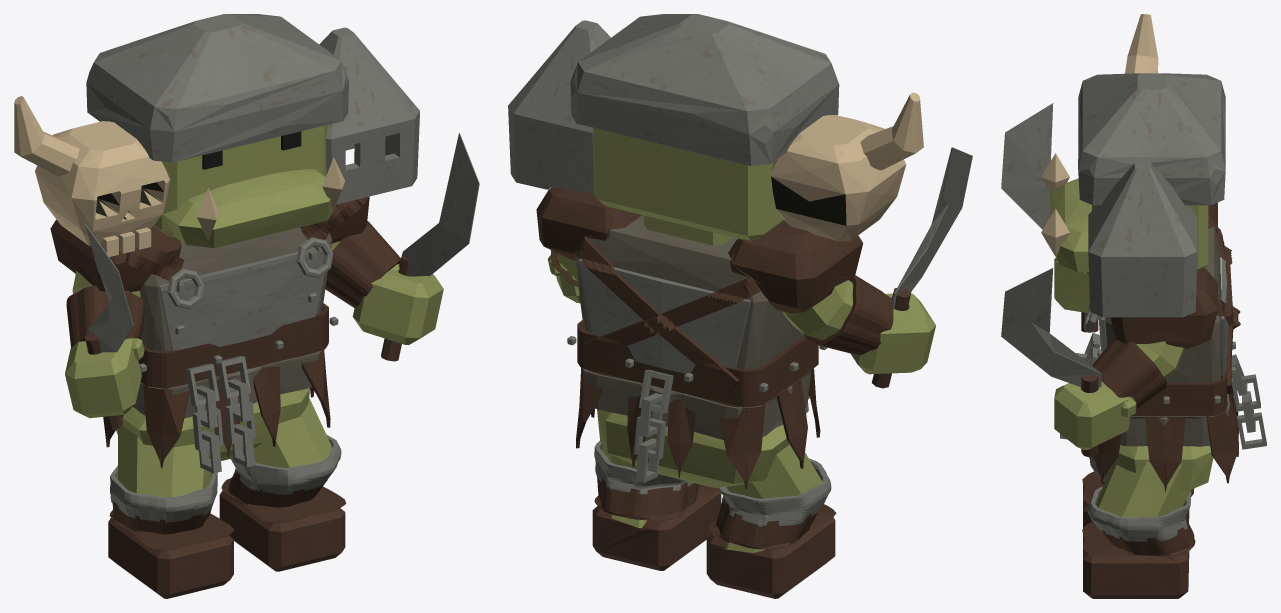
Rendered from host_11.glb.
3 renders of one model, left to right at view 1: azimuth 30°, elevation 25°; view 2: azimuth 150°, elevation 25°; view 3: azimuth 270°, elevation 25°, orthographic. The views are drawn at different scales.
Parts seen in each view (by area): view 1: Actual hollow angular source helmet, RIGHT substantial actual horned shoulder skull, One continuous source skull, LEFT substantial source hollow trophy helmet, Source faceted chest plate, Source broad outer riveted waist belt, RIGHT source planted boot, LEFT source planted boot, Source connected torso mass, RIGHT real compact source grasp source compact planar grasp, LEFT real compact source grasp source compact planar grasp, LEFT angular curved hooks blade.001 (+30 smaller); view 2: Actual hollow angular source helmet, RIGHT substantial actual horned shoulder skull, One continuous source skull, LEFT substantial source hollow trophy helmet, Source connected torso mass, Source faceted back plate, Source angular shoulder plate 1, Source broad outer riveted waist belt, RIGHT source planted boot, LEFT source planted boot, Actual pelvis continues lower torso into thighs, Source angular shoulder plate -1 (+22 smaller); view 3: Actual hollow angular source helmet, LEFT substantial source hollow trophy helmet, LEFT angular curved hooks blade.001, LEFT source planted boot, RIGHT angular curved hooks blade, LEFT real compact source grasp source compact planar grasp, Source angular shoulder plate -1, LEFT source short joined leg, One continuous source skull, LEFT fitted source hollow leather bracer, Source connected torso mass, Source broad outer riveted waist belt (+20 smaller).
Boxes of the visible parts, x1=… form: Actual hollow angular source helmet: x1=86, y1=14, x2=348, y2=162; RIGHT substantial actual horned shoulder skull: x1=14, y1=96, x2=169, y2=257; One continuous source skull: x1=154, y1=125, x2=335, y2=247; LEFT substantial source hollow trophy helmet: x1=319, y1=27, x2=419, y2=204; Source faceted chest plate: x1=158, y1=244, x2=330, y2=350; Source broad outer riveted waist belt: x1=138, y1=303, x2=328, y2=388; RIGHT source planted boot: x1=108, y1=517, x2=233, y2=598; LEFT source planted boot: x1=219, y1=490, x2=345, y2=571; Source connected torso mass: x1=140, y1=227, x2=332, y2=381; RIGHT real compact source grasp source compact planar grasp: x1=65, y1=338, x2=144, y2=418; LEFT real compact source grasp source compact planar grasp: x1=352, y1=264, x2=443, y2=344; LEFT angular curved hooks blade.001: x1=399, y1=133, x2=479, y2=276; Actual hollow angular source helmet: x1=570, y1=14, x2=839, y2=165; RIGHT substantial actual horned shoulder skull: x1=771, y1=92, x2=923, y2=241; One continuous source skull: x1=593, y1=127, x2=784, y2=240; LEFT substantial source hollow trophy helmet: x1=508, y1=20, x2=610, y2=194; Source connected torso mass: x1=575, y1=215, x2=804, y2=402; Source faceted back plate: x1=578, y1=259, x2=750, y2=373; Source angular shoulder plate 1: x1=728, y1=220, x2=863, y2=313; Source broad outer riveted waist belt: x1=577, y1=320, x2=818, y2=407; RIGHT source planted boot: x1=706, y1=517, x2=835, y2=598; LEFT source planted boot: x1=592, y1=489, x2=721, y2=570; Actual pelvis continues lower torso into thighs: x1=597, y1=409, x2=789, y2=487; Source angular shoulder plate -1: x1=536, y1=187, x2=641, y2=260; Actual hollow angular source helmet: x1=1078, y1=73, x2=1225, y2=205; LEFT substantial source hollow trophy helmet: x1=1088, y1=162, x2=1197, y2=317; LEFT angular curved hooks blade.001: x1=1001, y1=268, x2=1101, y2=389; LEFT source planted boot: x1=1083, y1=534, x2=1189, y2=598; RIGHT angular curved hooks blade: x1=1001, y1=103, x2=1053, y2=229; LEFT real compact source grasp source compact planar grasp: x1=1054, y1=383, x2=1136, y2=449; Source angular shoulder plate -1: x1=1110, y1=268, x2=1217, y2=349; LEFT source short joined leg: x1=1096, y1=461, x2=1190, y2=550; One continuous source skull: x1=1050, y1=178, x2=1208, y2=272; LEFT fitted source hollow leather bracer: x1=1092, y1=338, x2=1166, y2=408; Source connected torso mass: x1=1105, y1=226, x2=1221, y2=445; Source broad outer riveted waist belt: x1=1130, y1=367, x2=1226, y2=416.
Size of the model in its own units: 1.32 by 1.7 by 0.8535.
8 materials, 6 textured.
